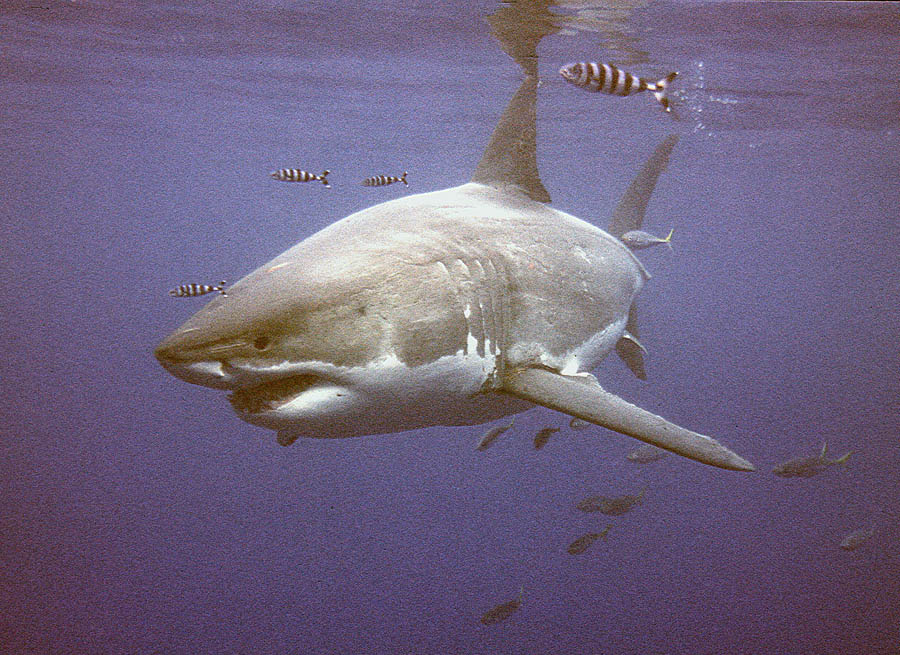Carcharodon_carcharias: (117, 69, 773, 494)
